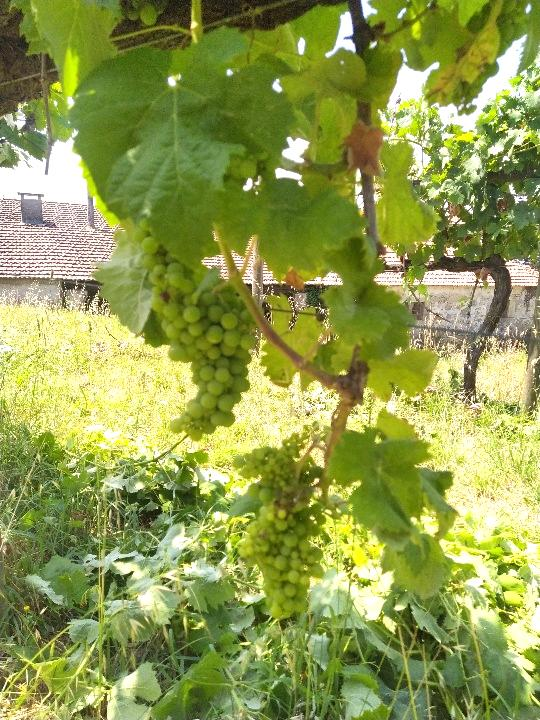grape: (147, 255, 258, 442), (234, 494, 332, 623)
